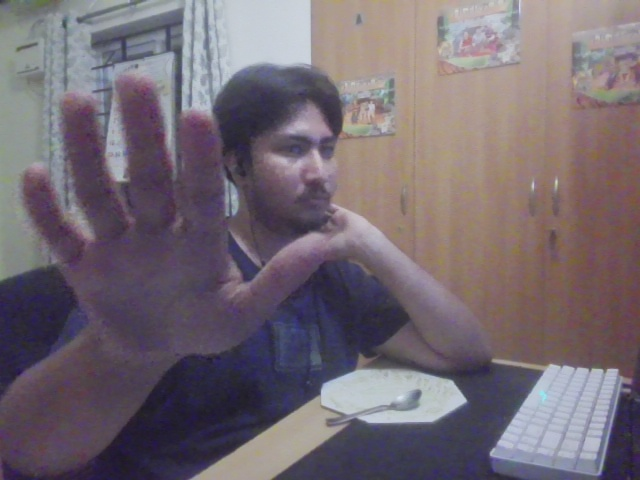hello: (17, 65, 337, 364)
